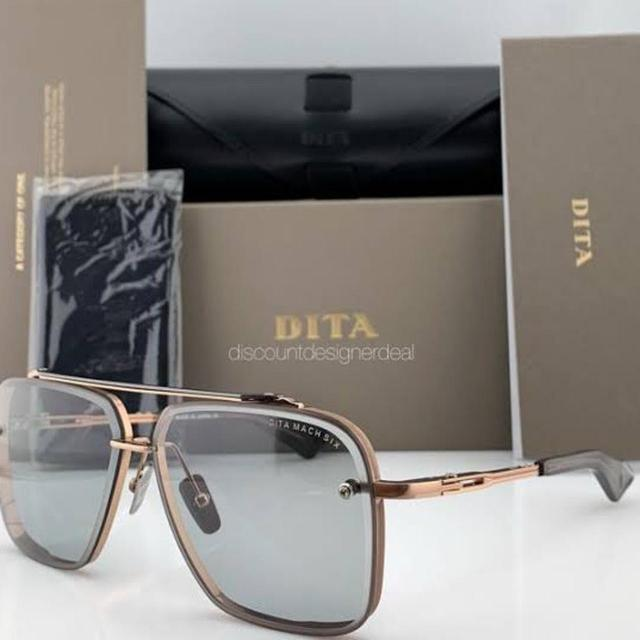sunglasses: (0, 369, 634, 636)
